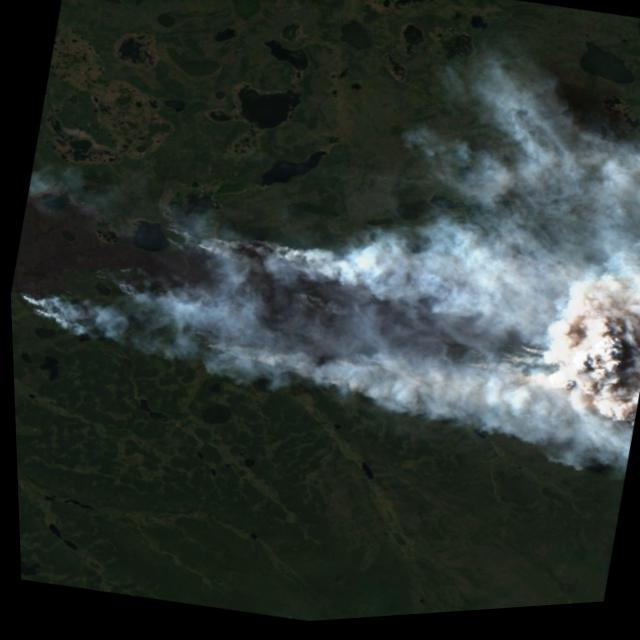fire: (5, 144, 640, 480)
